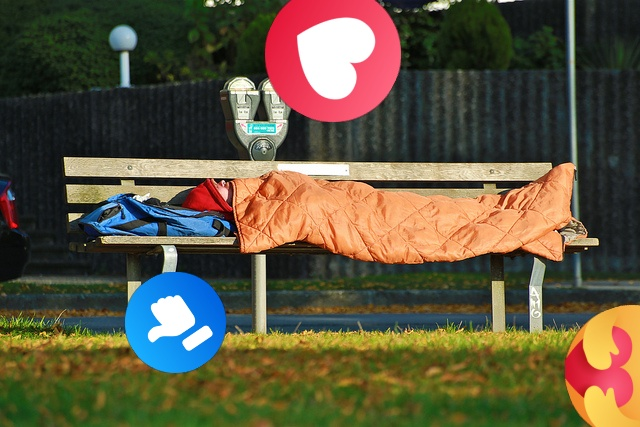care: (565, 305, 640, 427)
like: (125, 272, 226, 373)
love: (265, 0, 401, 122)
